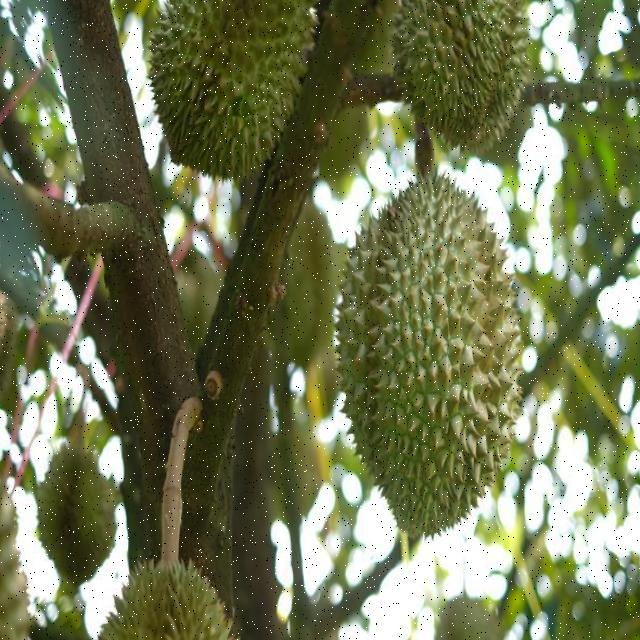UNRIPE: (336, 170, 522, 534), (151, 0, 317, 181), (390, 0, 530, 150)
